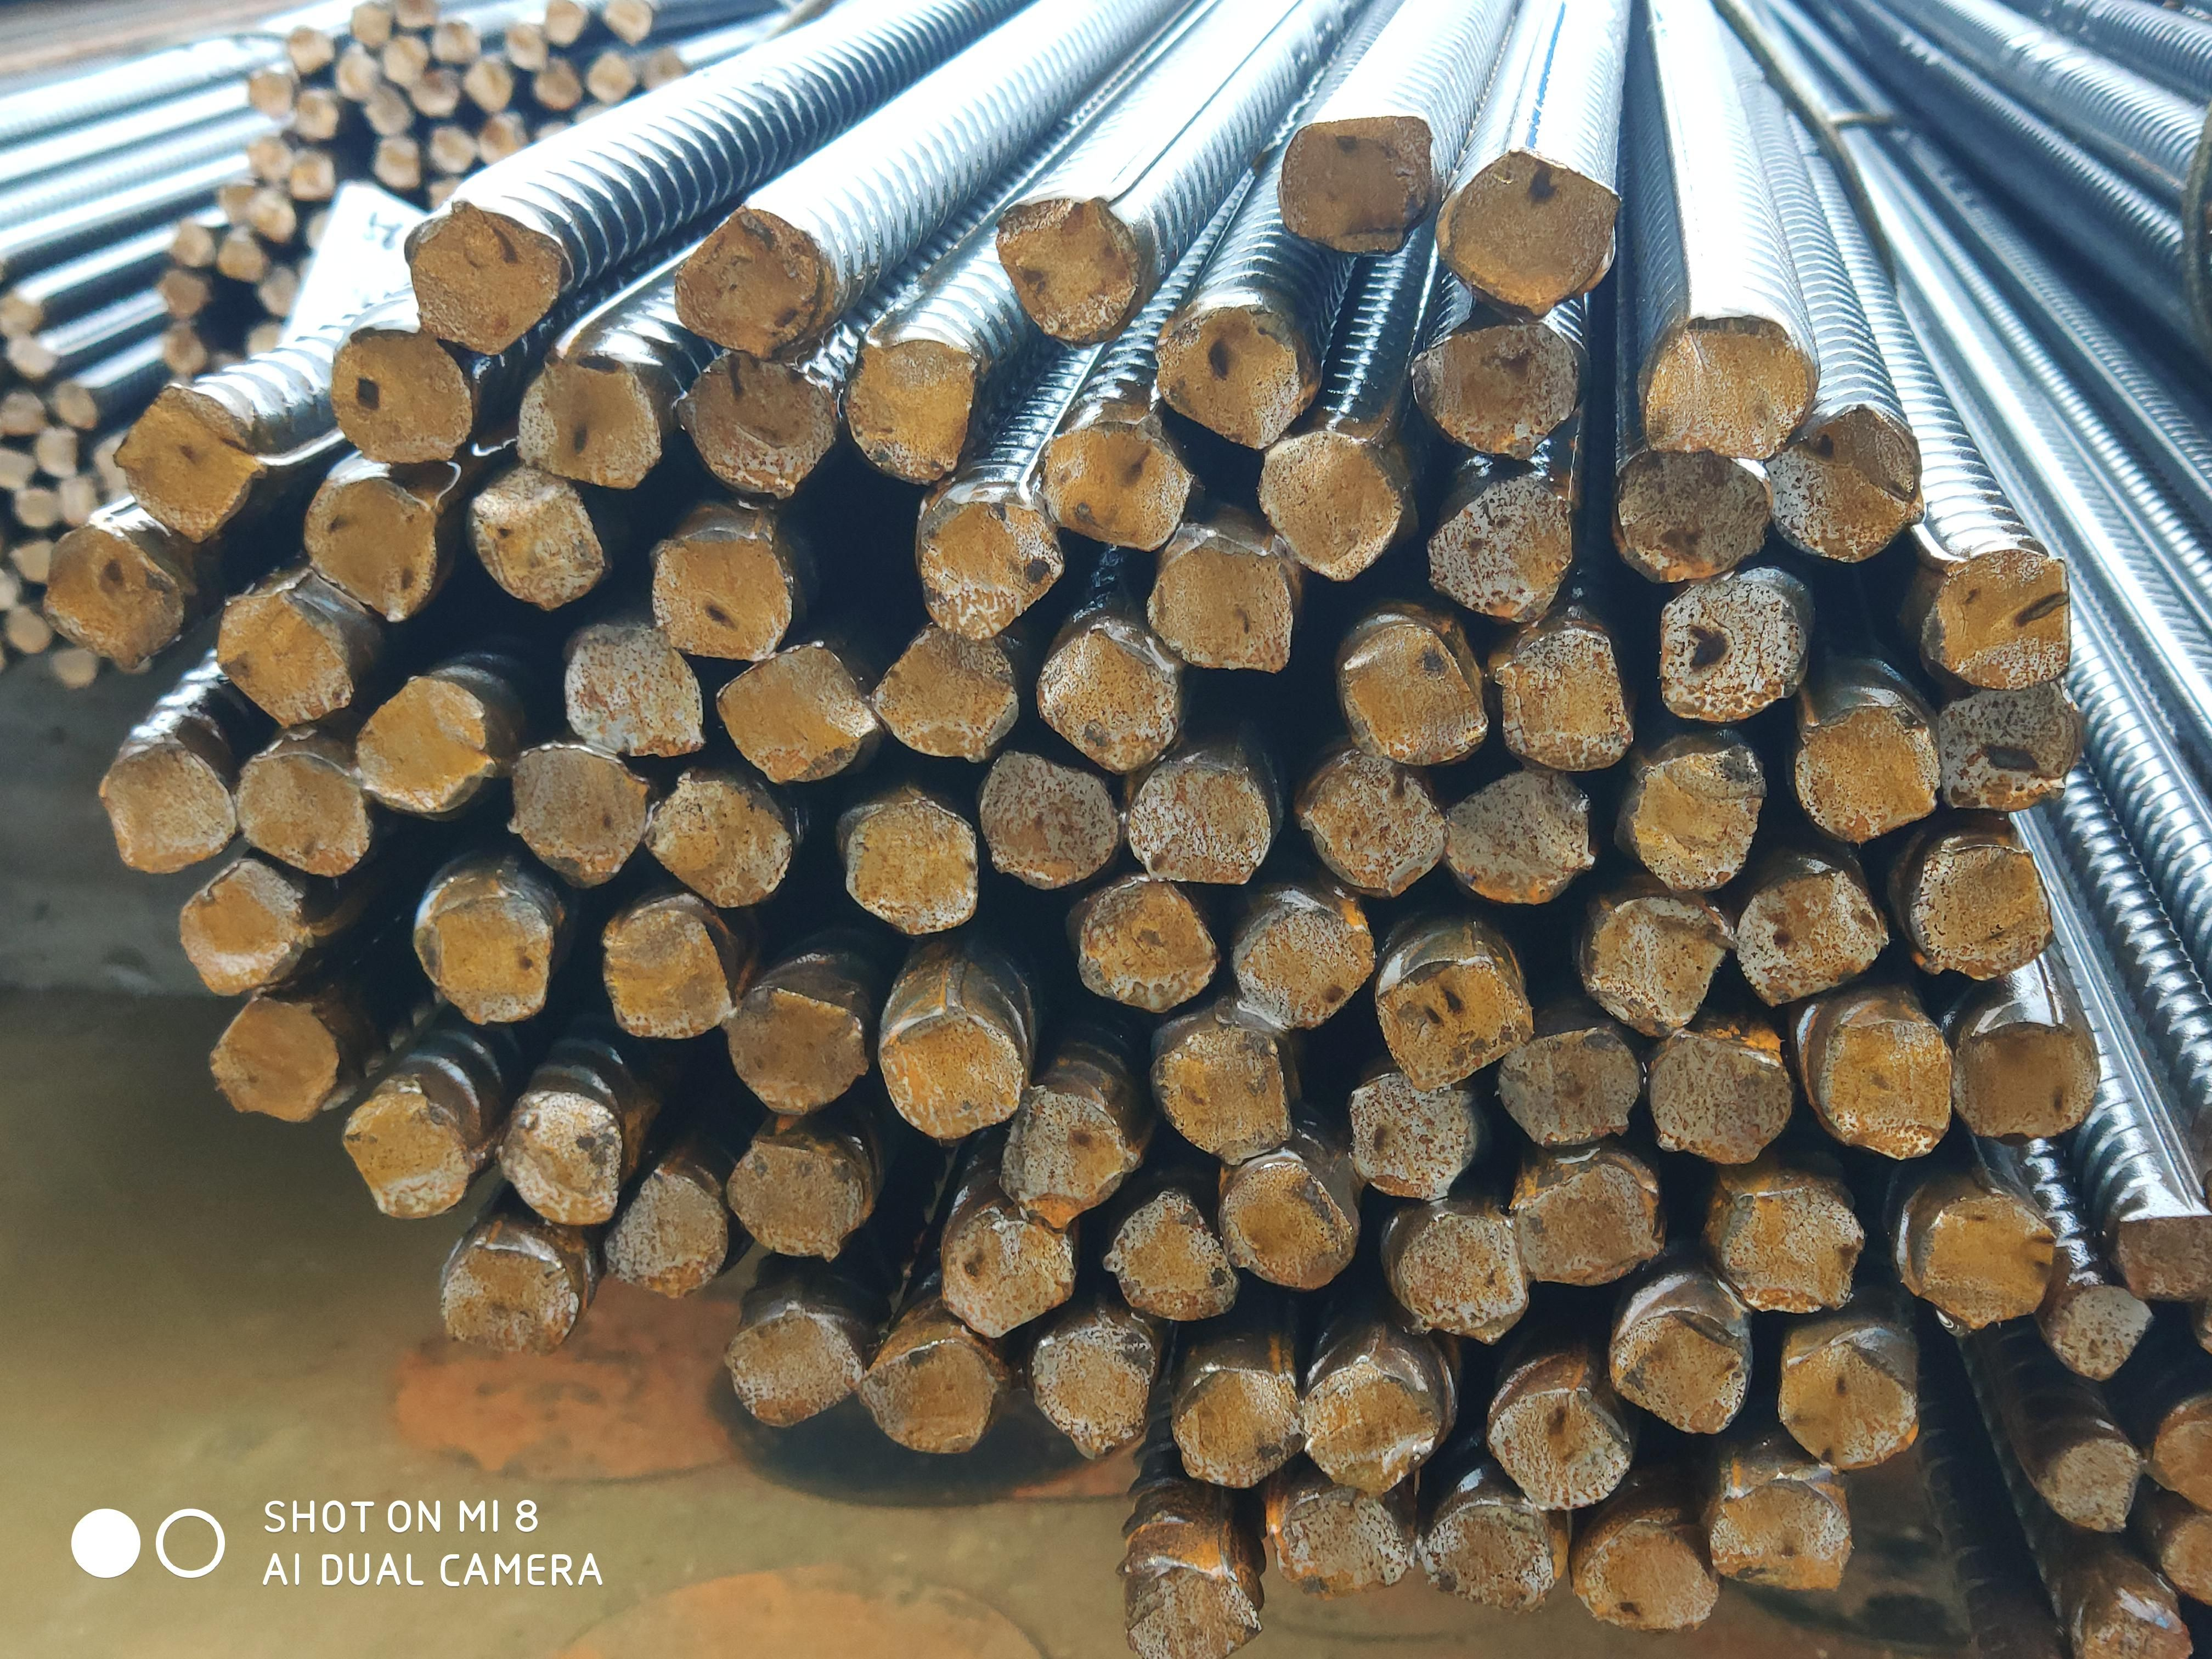rebar: (1441, 149, 1626, 315), (403, 190, 571, 353), (1643, 307, 1814, 465), (1766, 400, 1929, 566), (103, 379, 266, 541), (31, 520, 190, 679), (1422, 466, 1577, 628), (672, 349, 836, 503), (320, 320, 485, 472), (1730, 861, 1894, 1013), (672, 205, 838, 355), (715, 639, 882, 788), (1412, 315, 1579, 463), (1253, 427, 1404, 586), (1375, 949, 1538, 1098), (1441, 764, 1598, 913), (1491, 621, 1639, 778), (1145, 529, 1297, 680), (995, 194, 1142, 349), (1615, 444, 1776, 586), (1272, 111, 1434, 253), (912, 500, 1065, 646), (1931, 677, 2086, 821), (870, 1001, 1030, 1142), (1301, 750, 1449, 901), (1035, 620, 1181, 774), (1654, 578, 1809, 724), (1927, 547, 2078, 692), (506, 736, 648, 888), (1036, 416, 1190, 559), (1337, 624, 1491, 766), (839, 333, 980, 488), (1911, 1189, 2058, 1334), (1821, 1005, 1957, 1163), (212, 585, 359, 731), (876, 618, 1022, 766), (304, 472, 447, 622), (1777, 1330, 1918, 1481), (838, 795, 987, 936), (1792, 702, 1942, 843), (1234, 892, 1378, 1037), (1071, 873, 1219, 1014), (1159, 308, 1306, 449), (644, 526, 795, 666), (1718, 1183, 1870, 1321), (647, 773, 799, 910), (1588, 894, 1732, 1039), (556, 621, 704, 759), (1629, 744, 1768, 893), (1647, 1024, 1795, 1164), (515, 352, 666, 490), (1908, 840, 2057, 978), (463, 463, 607, 606), (1152, 1020, 1294, 1164), (724, 980, 872, 1119), (1219, 1156, 1362, 1296), (95, 737, 240, 877), (998, 1086, 1137, 1230), (598, 904, 738, 1043), (204, 986, 344, 1128), (978, 753, 1120, 893), (1611, 1302, 1751, 1442), (352, 674, 496, 810), (1493, 1025, 1644, 1153), (1950, 1016, 2101, 1145), (174, 861, 314, 1001), (596, 1163, 735, 1301), (1297, 1347, 1433, 1489), (1491, 1381, 1633, 1516), (1123, 760, 1272, 891), (337, 1079, 471, 1220), (724, 1301, 869, 1431), (1103, 1192, 1241, 1329), (1387, 1208, 1529, 1341), (1342, 1069, 1475, 1209), (234, 751, 374, 882), (1028, 1322, 1159, 1462), (1515, 1160, 1659, 1290), (1165, 1359, 1301, 1493), (425, 888, 558, 1027), (498, 1088, 628, 1230), (935, 1209, 1080, 1335), (726, 1141, 872, 1264), (1706, 1472, 1854, 1595), (435, 1241, 585, 1355), (1573, 1518, 1719, 1633), (862, 1334, 998, 1459), (1427, 1499, 1568, 1614), (1121, 1547, 1267, 1658), (1271, 1485, 1412, 1594), (2035, 1429, 2142, 1539), (2053, 1279, 2154, 1384), (2116, 1203, 2212, 1306), (2078, 1588, 2195, 1659), (2158, 1392, 2212, 1521), (2155, 1508, 2212, 1611), (463, 52, 517, 117), (283, 145, 338, 207), (46, 379, 104, 433), (529, 53, 584, 112), (246, 181, 297, 241), (213, 226, 268, 282), (584, 50, 636, 110), (329, 41, 380, 101), (241, 66, 298, 119), (91, 432, 138, 493), (1, 385, 53, 440), (370, 136, 424, 188), (422, 122, 478, 173), (364, 86, 416, 137), (477, 111, 529, 165), (410, 65, 461, 119), (500, 19, 549, 76), (158, 268, 211, 319), (283, 25, 336, 76), (244, 132, 295, 184), (430, 14, 482, 65), (3, 601, 52, 655), (291, 87, 338, 144), (343, 1, 393, 52), (31, 427, 80, 478), (8, 335, 61, 382), (257, 264, 303, 319), (600, 1, 657, 46), (161, 321, 205, 377), (166, 217, 217, 266), (381, 35, 428, 88), (50, 477, 99, 527), (48, 637, 95, 689), (539, 1, 587, 49), (1, 293, 46, 340), (217, 176, 262, 223), (639, 44, 687, 89), (11, 487, 61, 530), (11, 538, 57, 582), (1, 449, 33, 490), (392, 1, 438, 27)
